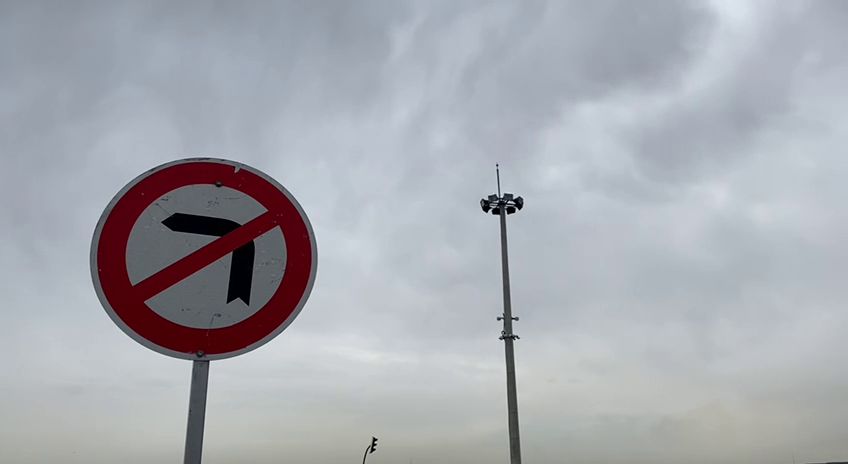noTurnLeft: (82, 148, 323, 371)
